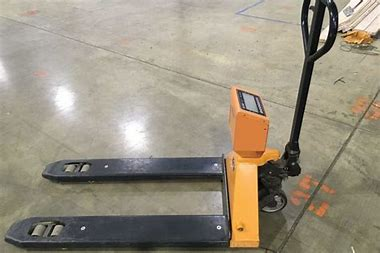Pallet Jack: (4, 2, 340, 250)
